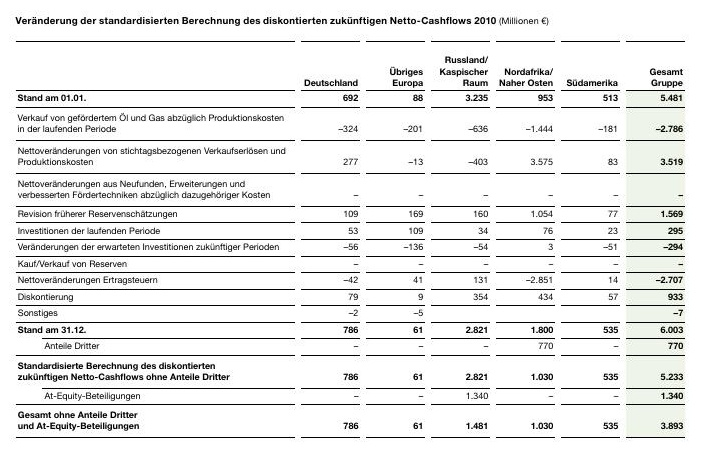table: (0, 0, 701, 451)
